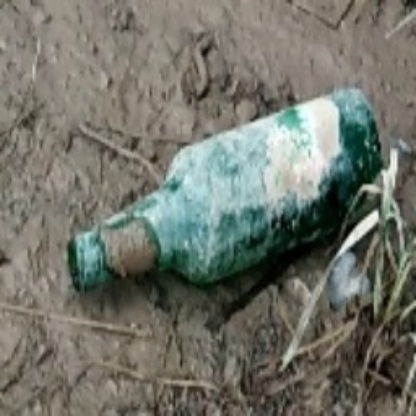bottle: (58, 83, 397, 297)
